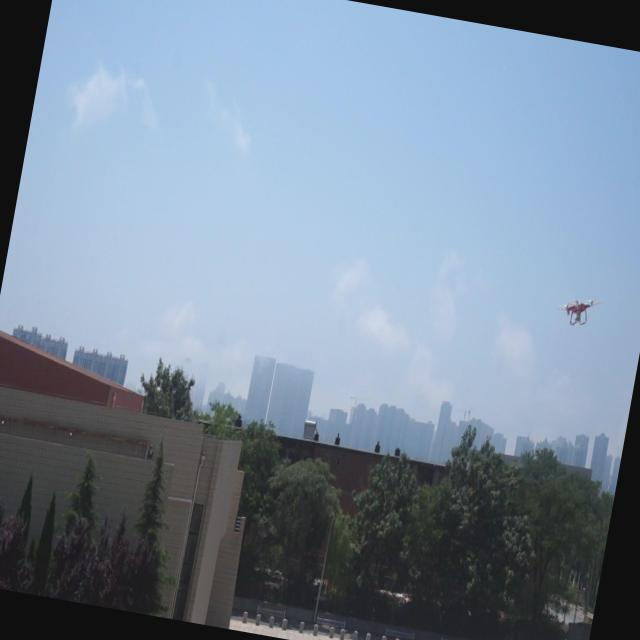drone: (552, 288, 602, 332)
